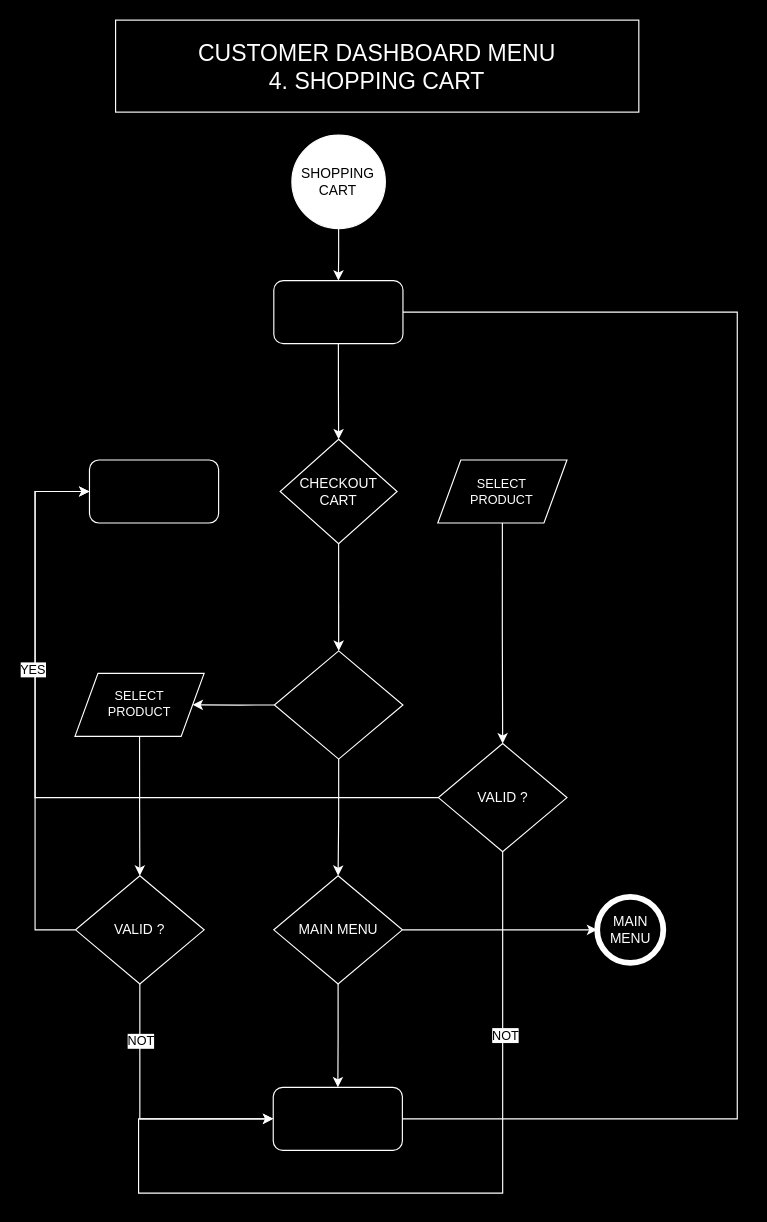
This 767x1222 diagram has some shape labels left out. The shapes that lost their labels are listed below. From the top down, each one's box as (x1, y1, x2, y2) in pixels, then its label:
(273, 279, 403, 344): DISPLAY MENU
(88, 459, 219, 523): SUCCESS MESSAGE
(273, 650, 403, 759): DELETE CART
(272, 1086, 402, 1150): ERROR MESSAGE
